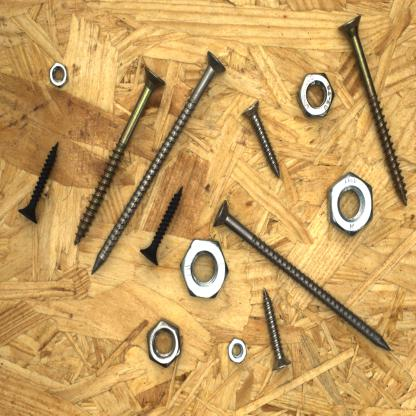screw: (87, 47, 230, 278), (211, 197, 395, 352), (71, 62, 170, 249), (335, 11, 410, 210), (137, 183, 186, 269), (16, 139, 62, 226), (238, 97, 282, 183), (260, 285, 295, 375)
